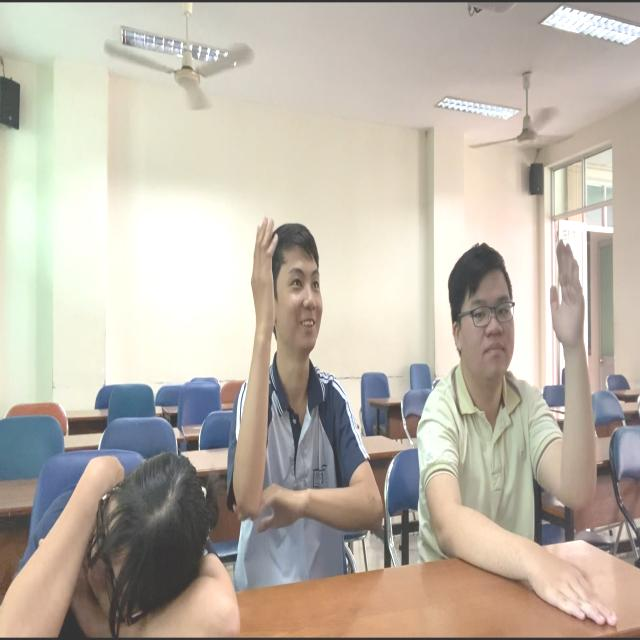raise_hand: (428, 232, 605, 582), (227, 219, 393, 573)
sleep: (1, 441, 244, 639)
